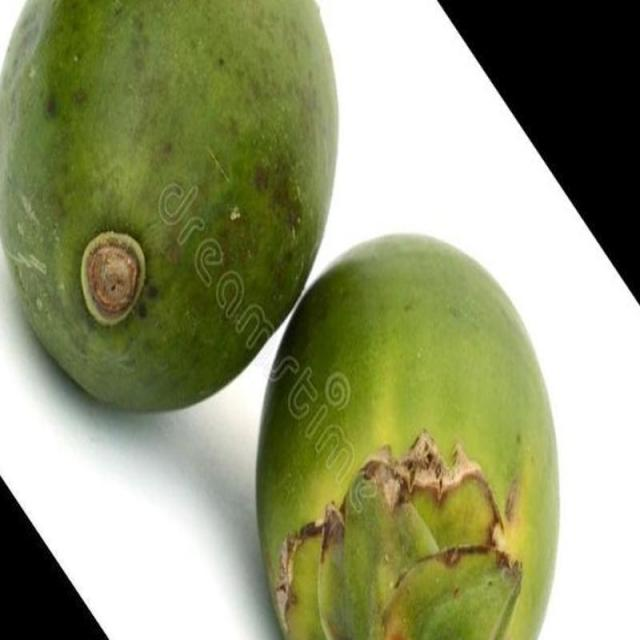good: (254, 235, 562, 639)
